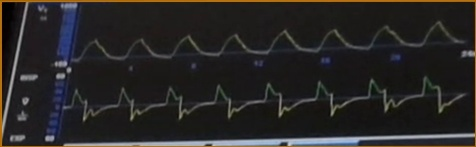Premature_cycling Flow: (68, 74, 465, 133)
Premature_cycling Volume: (75, 17, 462, 64)
